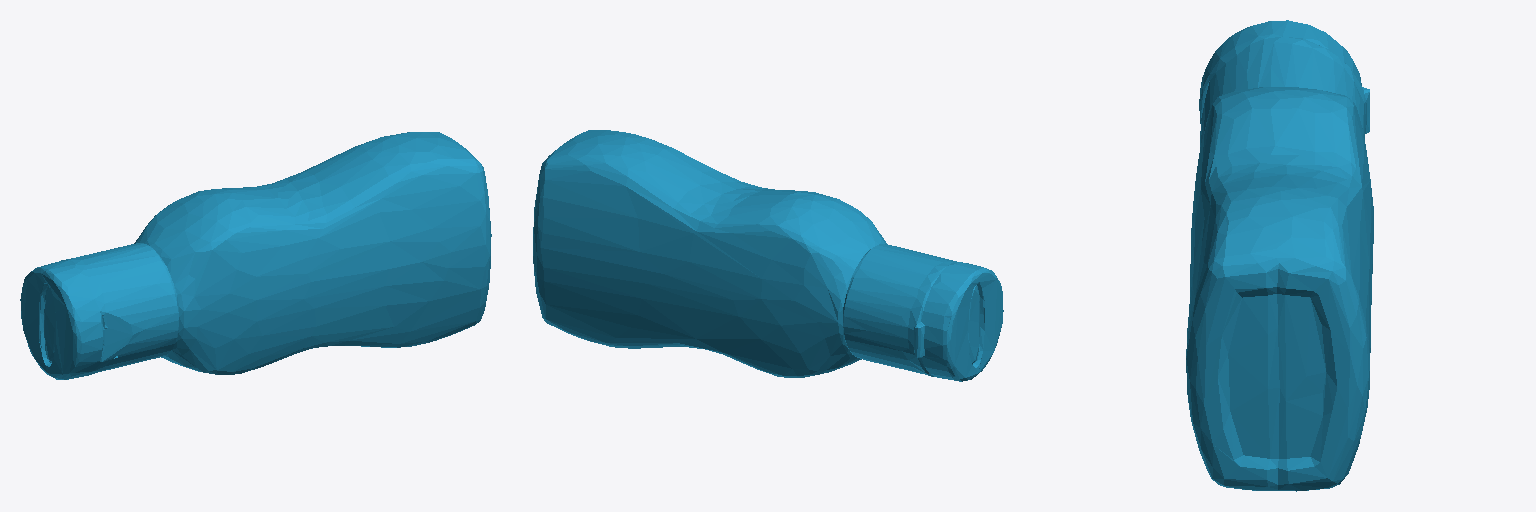
URDF robot description (myfirst):
<?xml version="1.0"?>
 <robot name="myfirst">
   <material name="light_green">
     <color rgba="0 1 0.498 1"/>
   </material>
   <material name="coral">
     <color rgba="1 0.498 0.3137 1"/>
   </material>
   <link name="Mayo">
     <visual>
       <geometry>
         <!-- <box size="0.16 0.21343700408935547 0.061"/> -->
         <mesh filename="Mayo.obj" scale="1 1 1"/>
       </geometry>
       <!-- <material name="light_green"/> -->
       <material name="blue">
         <color rgba="0.2 0.63137 0.788 1"/>
       </material>
       <origin xyz="0 0 0" rpy="0 0 0"/>
     </visual>
     <inertial>
       <mass value="0.5"/>
       <inertia ixx="1.0" ixy="0.0" ixz="0.0" iyy="1.0" iyz="0.0" izz="1.0"/>
     </inertial>
   </link>
   
 </robot>

--- What the picture shows (computed from the rendered views, not written in the file) ---
Views: 3 orthographic renders of the robot side by side, from view 1: azimuth 30°, elevation 25°; view 2: azimuth 150°, elevation 25°; view 3: azimuth 270°, elevation 25°.
Robot: myfirst — 1 links, 0 joints (none); root link Mayo; default pose: all joints at 0.
Visible links, largest first — view 1: Mayo; view 2: Mayo; view 3: Mayo.
Boxes of the visible links, x1,y1,x2,y2 form: Mayo: [20, 132, 491, 379]; Mayo: [533, 130, 1003, 381]; Mayo: [1186, 20, 1373, 491].
Size in the robot's own frame: 0.1479 by 0.041 by 0.0646 metres.
Meshes: 1 distinct files referenced, 1 mesh visuals loaded (1 OBJ).
